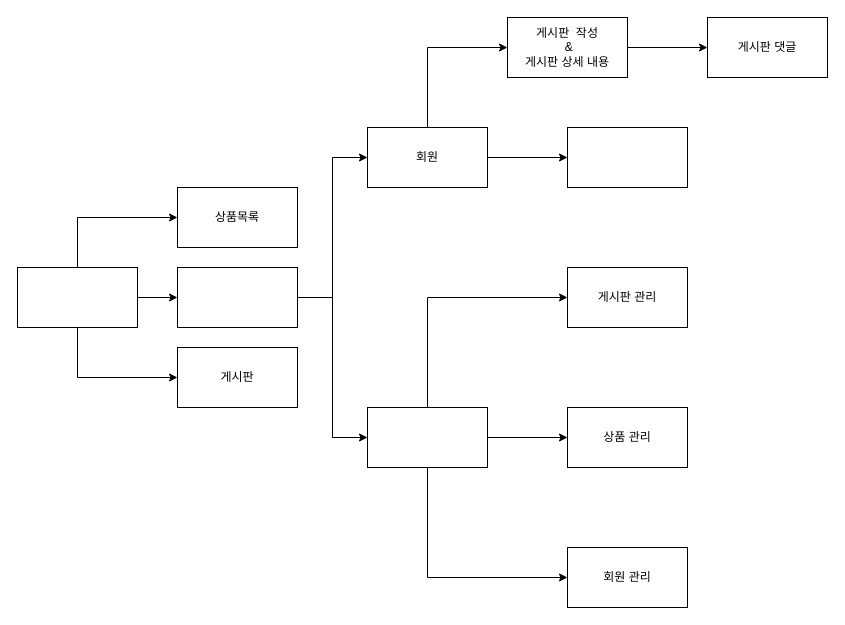
Image size: 845x625. Some labels were removed from this diagram. The shapes that lost their labels are listed below. From the top down, each one's box as (x1, y1, x2, y2) in pixels, then its label:
(566, 126, 688, 188): 쪽지
(16, 266, 138, 328): 비회원
(176, 266, 298, 328): 로그인 & 회원가입
(366, 406, 488, 468): 관리자
